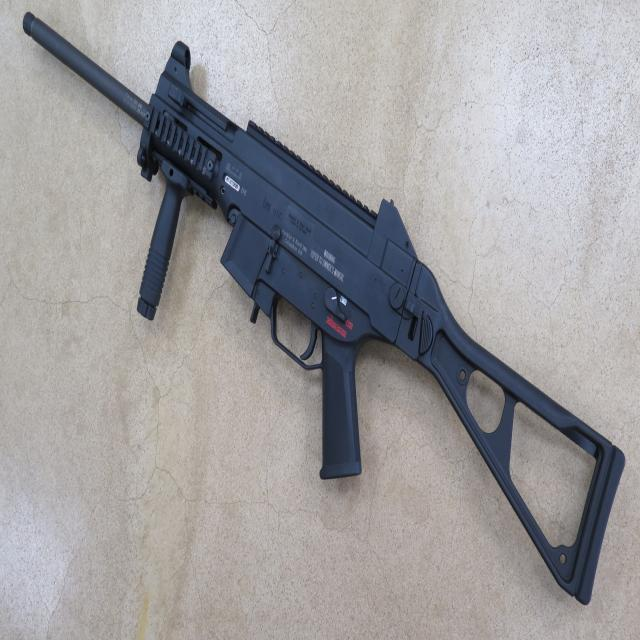SMG: (22, 15, 626, 606)
